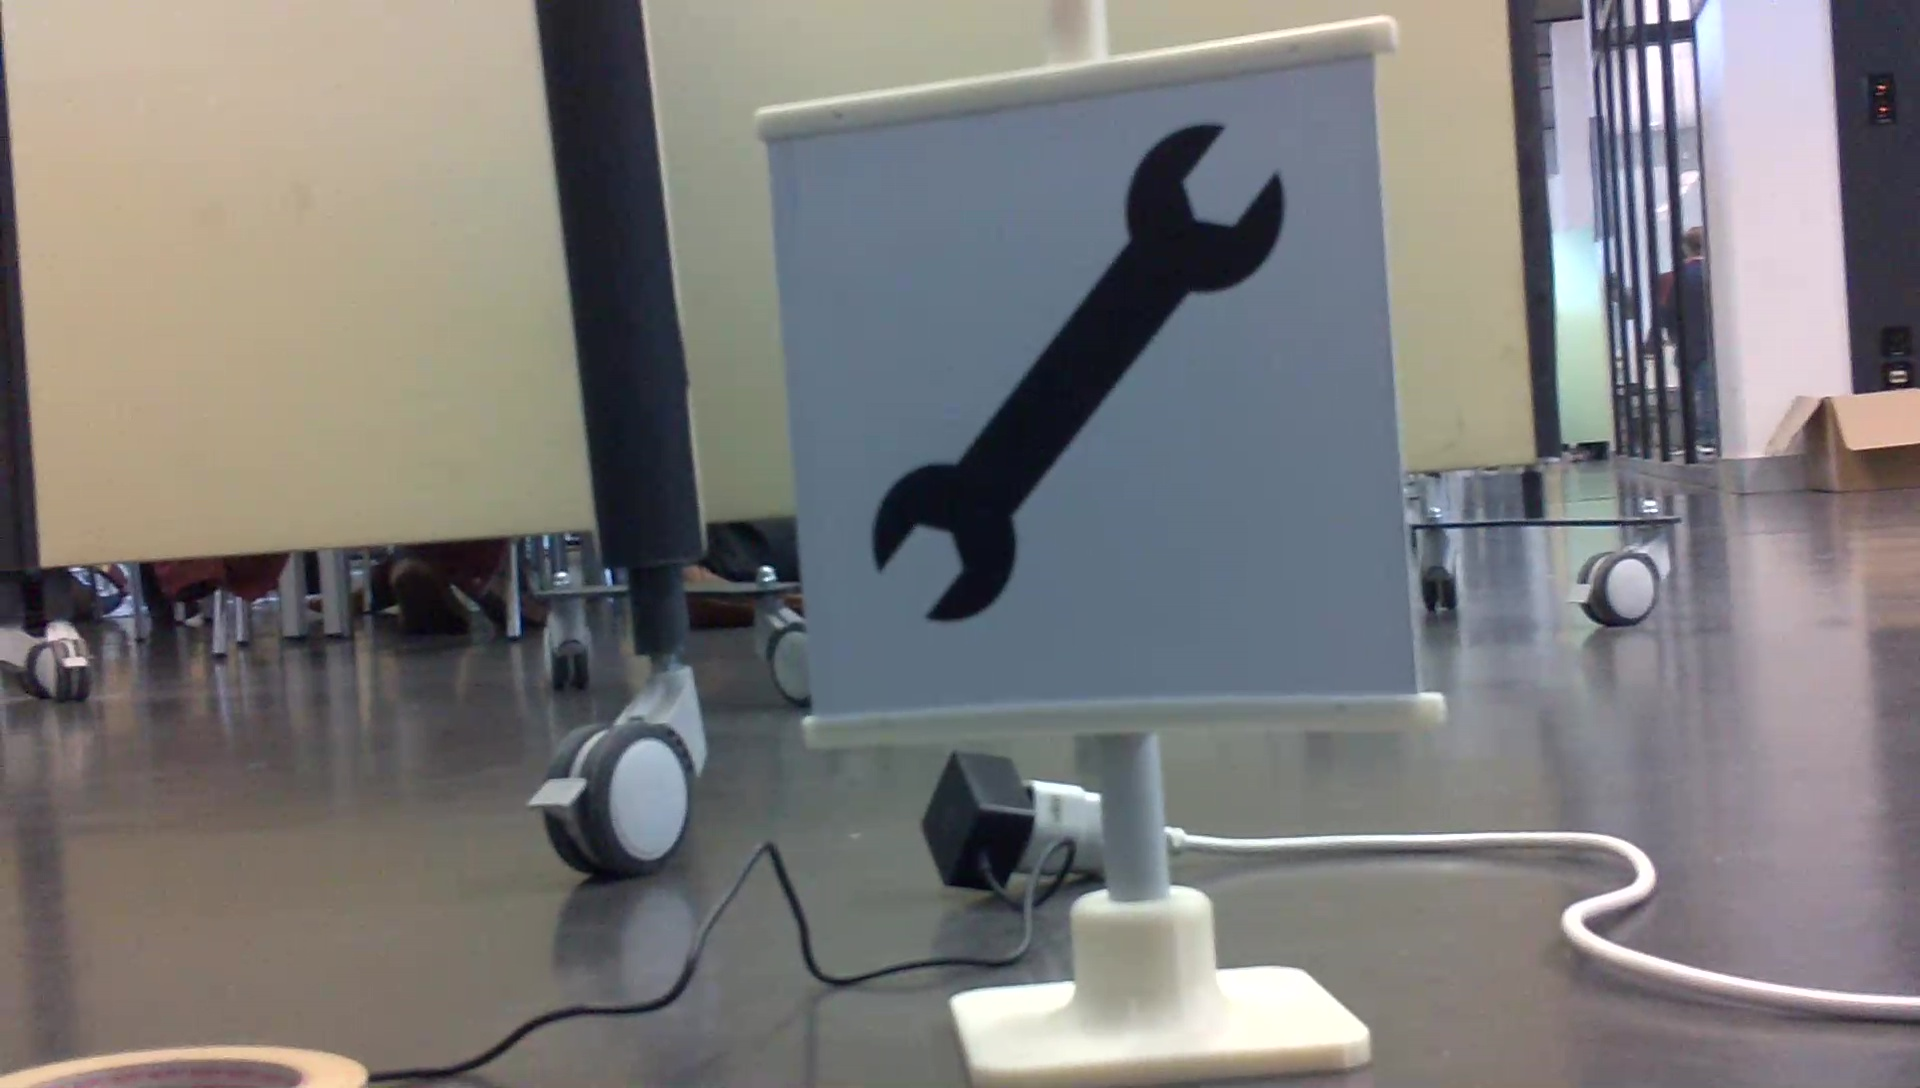wrench: (865, 113, 1298, 630)
